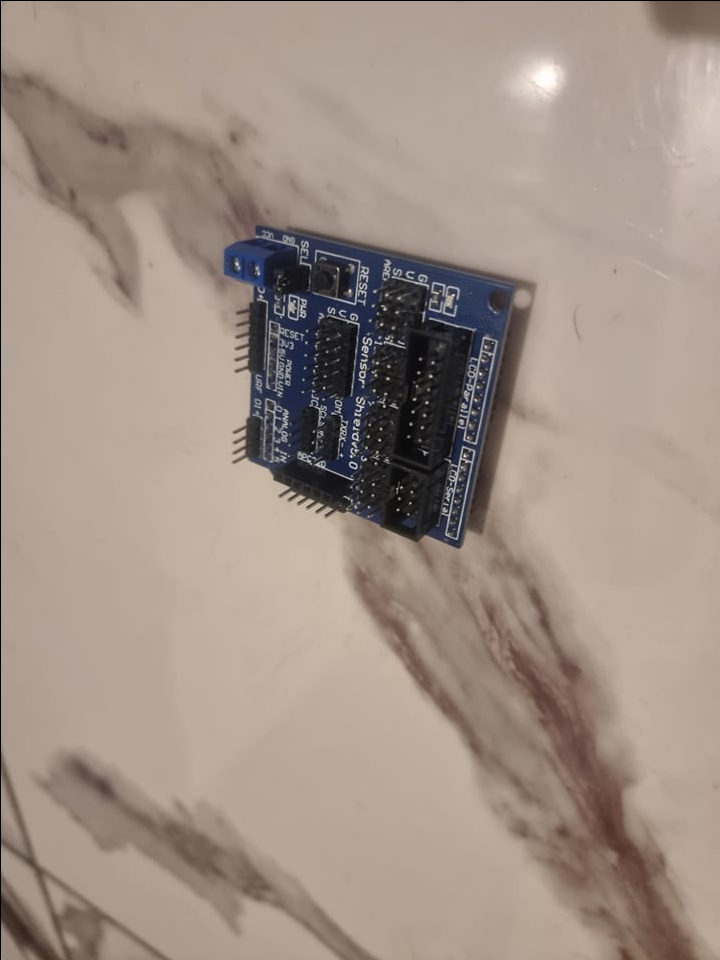5V EXPANSION: (219, 221, 518, 550)
